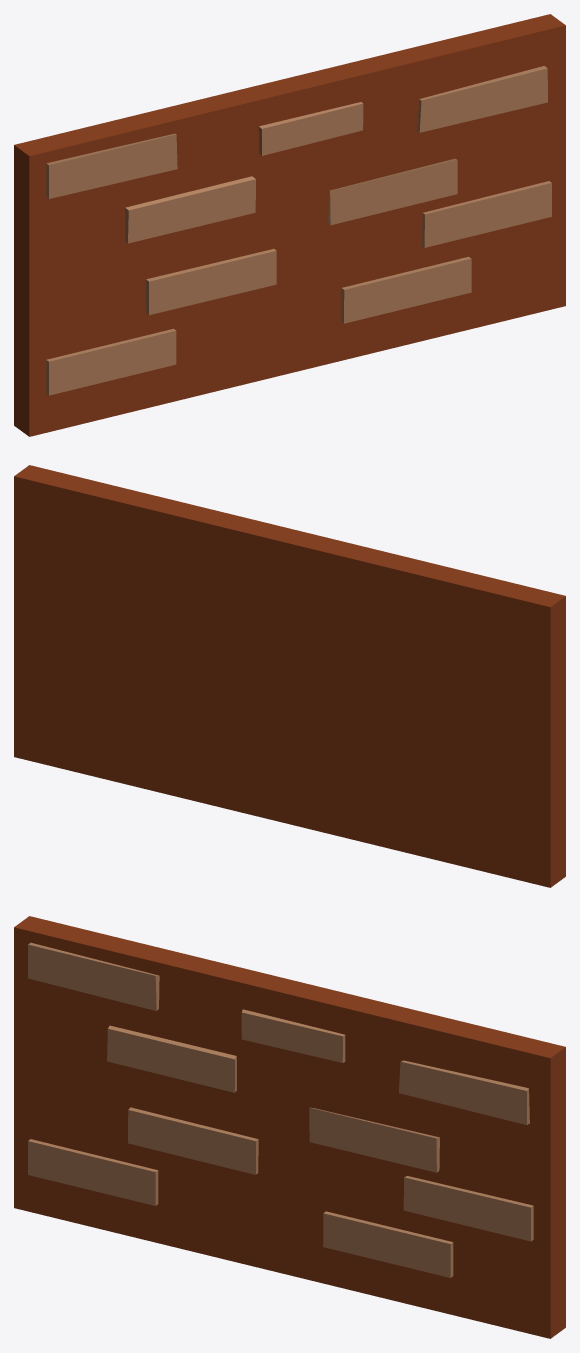
Rendered from BrickV2HalfWall.fbx.
3 views of the same model, one above another, from view 1: azimuth 30°, elevation 25°; view 2: azimuth 150°, elevation 25°; view 3: azimuth 330°, elevation 25° (orthographic).
Visible parts, largest first — view 1: BrickV2HalfWall; view 2: BrickV2HalfWall; view 3: BrickV2HalfWall.
Part boxes in pixels (bbox=[...]): BrickV2HalfWall: bbox=[14, 14, 565, 436]; BrickV2HalfWall: bbox=[14, 465, 565, 887]; BrickV2HalfWall: bbox=[14, 916, 565, 1338].
Bounding box in the file's own units: 200 × 100 × 11.75.
